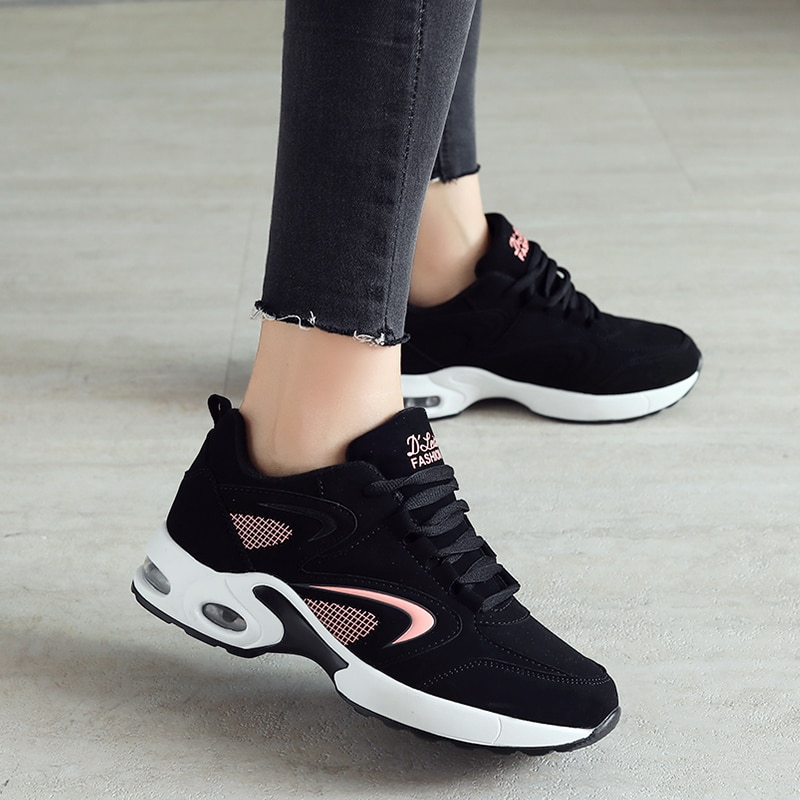shoe: (97, 392, 627, 758), (387, 214, 735, 432)
